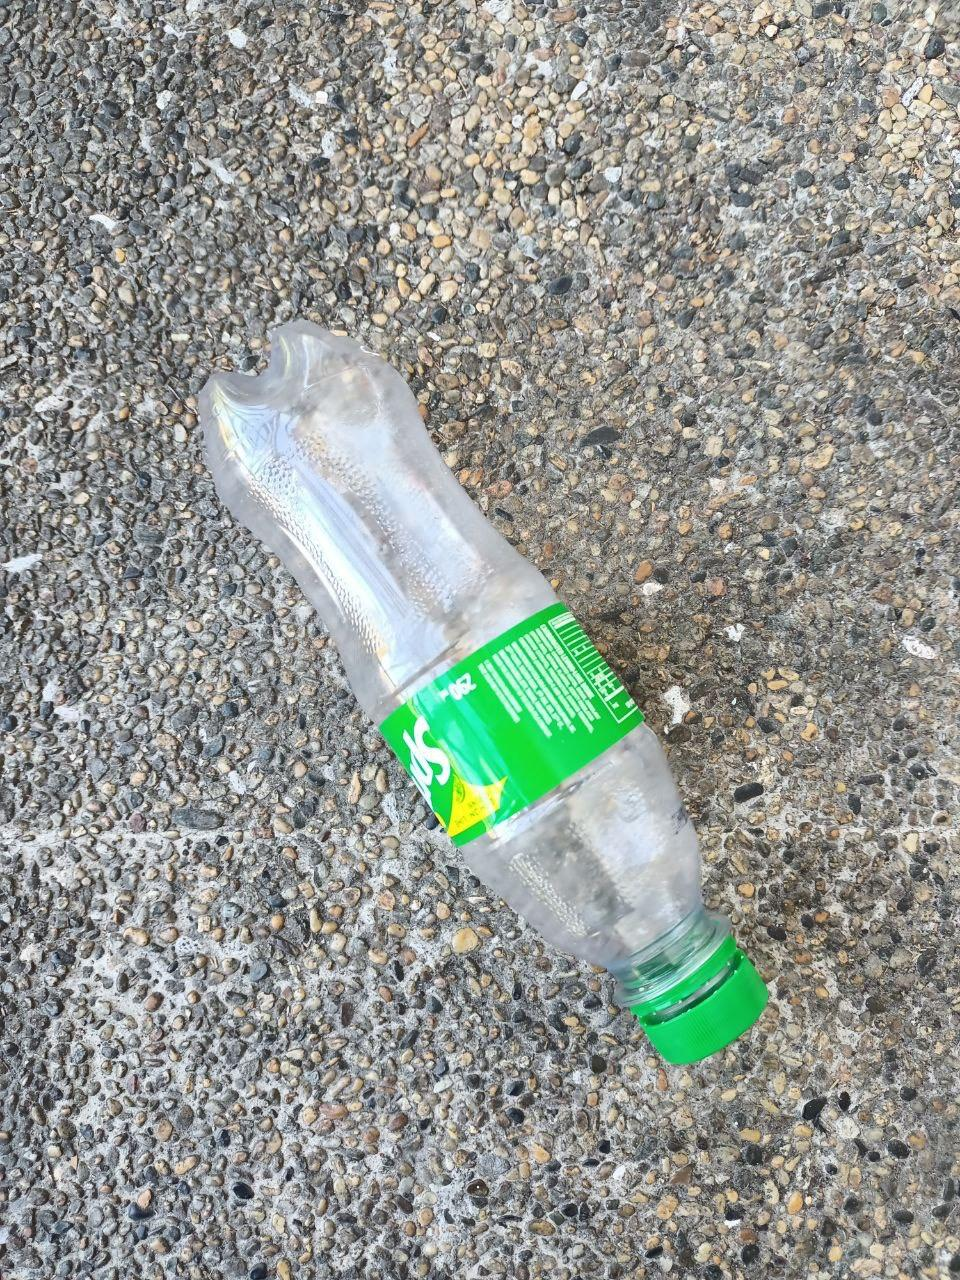plastic: (121, 269, 805, 1148)
